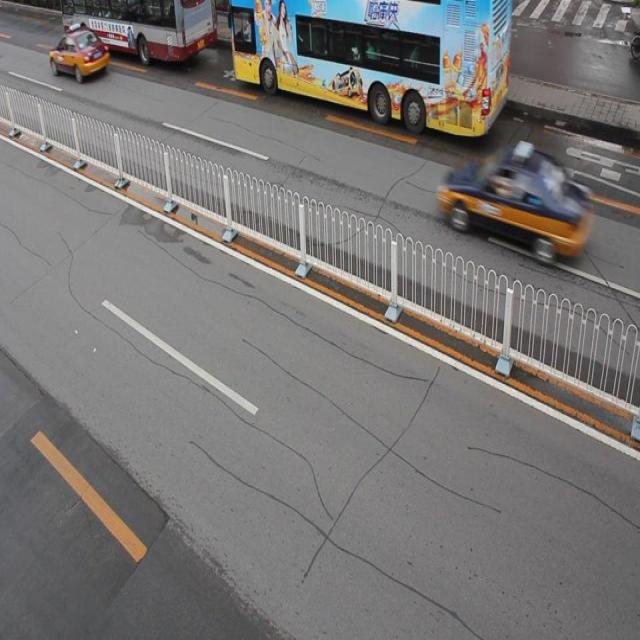car: (439, 146, 592, 263), (49, 27, 111, 84)
van: (230, 1, 511, 138), (61, 1, 217, 64)
